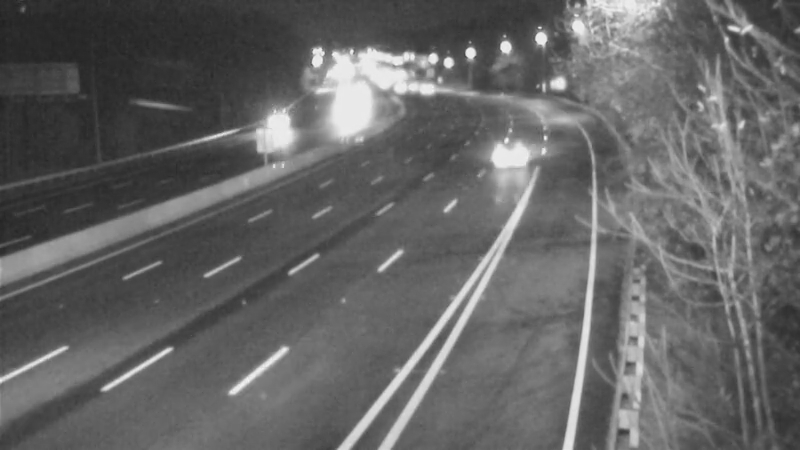vehicle: (462, 122, 542, 202), (252, 105, 302, 155)
